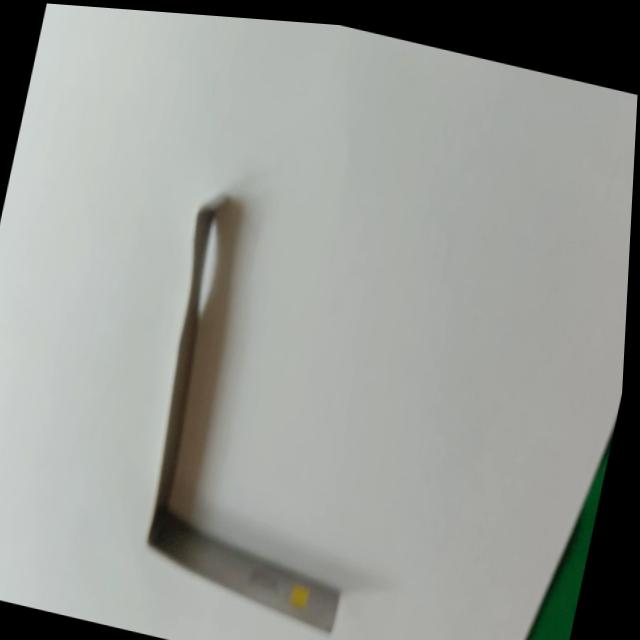AustinRetractor: (112, 166, 433, 640)
